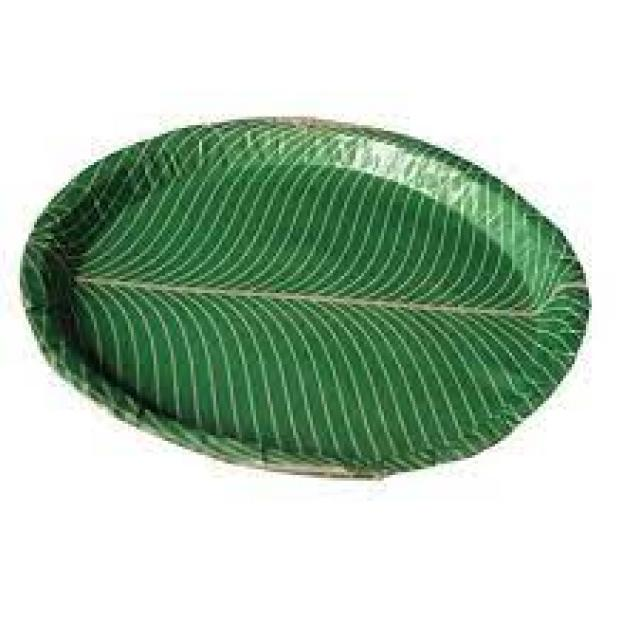Paper -Biodegradable-: (20, 116, 587, 479)
